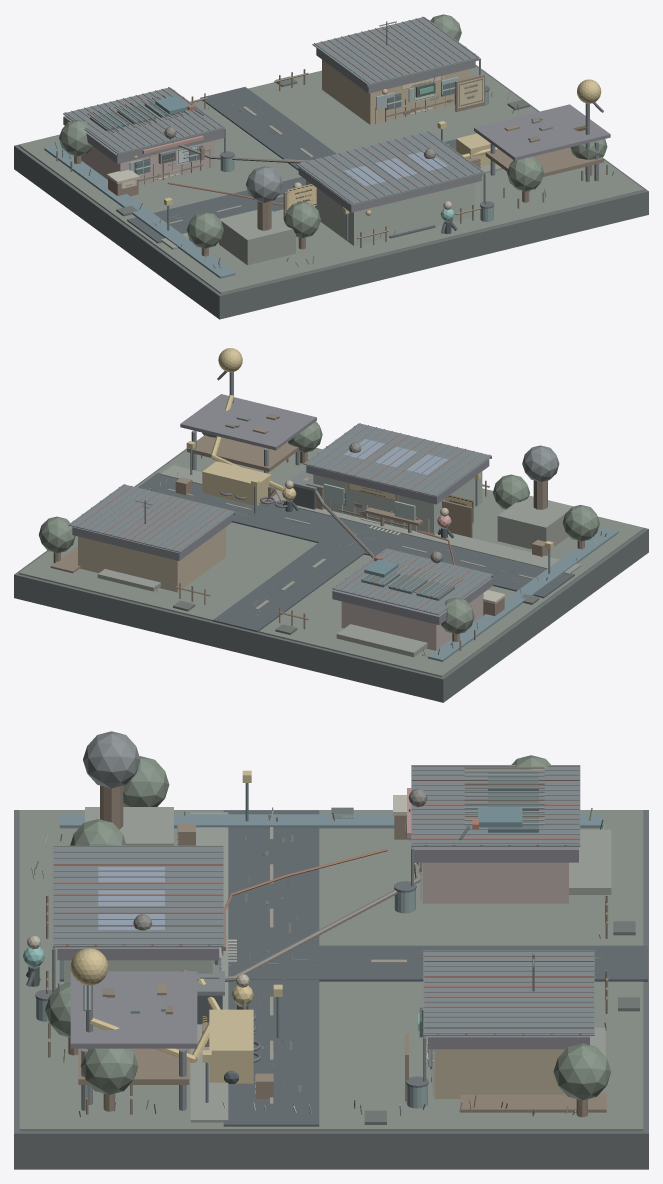
The model's file is yudae_p_shuttle_detailed.glb.
3 views of the same model, one above another, from view 1: azimuth 30°, elevation 25°; view 2: azimuth 150°, elevation 25°; view 3: azimuth 270°, elevation 25° (orthographic). The views are drawn at different scales.
Visible parts, largest first — view 1: world; view 2: world; view 3: world.
Boxes of the visible parts, <box> form: world: <box>14,14,648,319</box>; world: <box>14,348,648,702</box>; world: <box>14,731,648,1169</box>.
Size of the model in its own units: 3.45 by 0.96 by 2.86.
9 materials, 9 textured.
